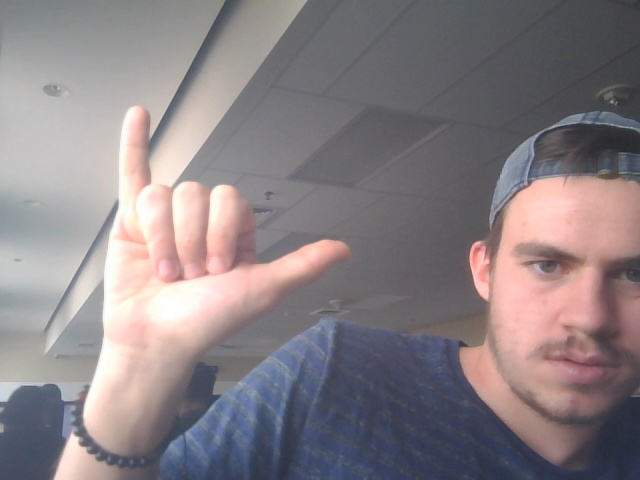birdsup: (90, 99, 370, 350)
